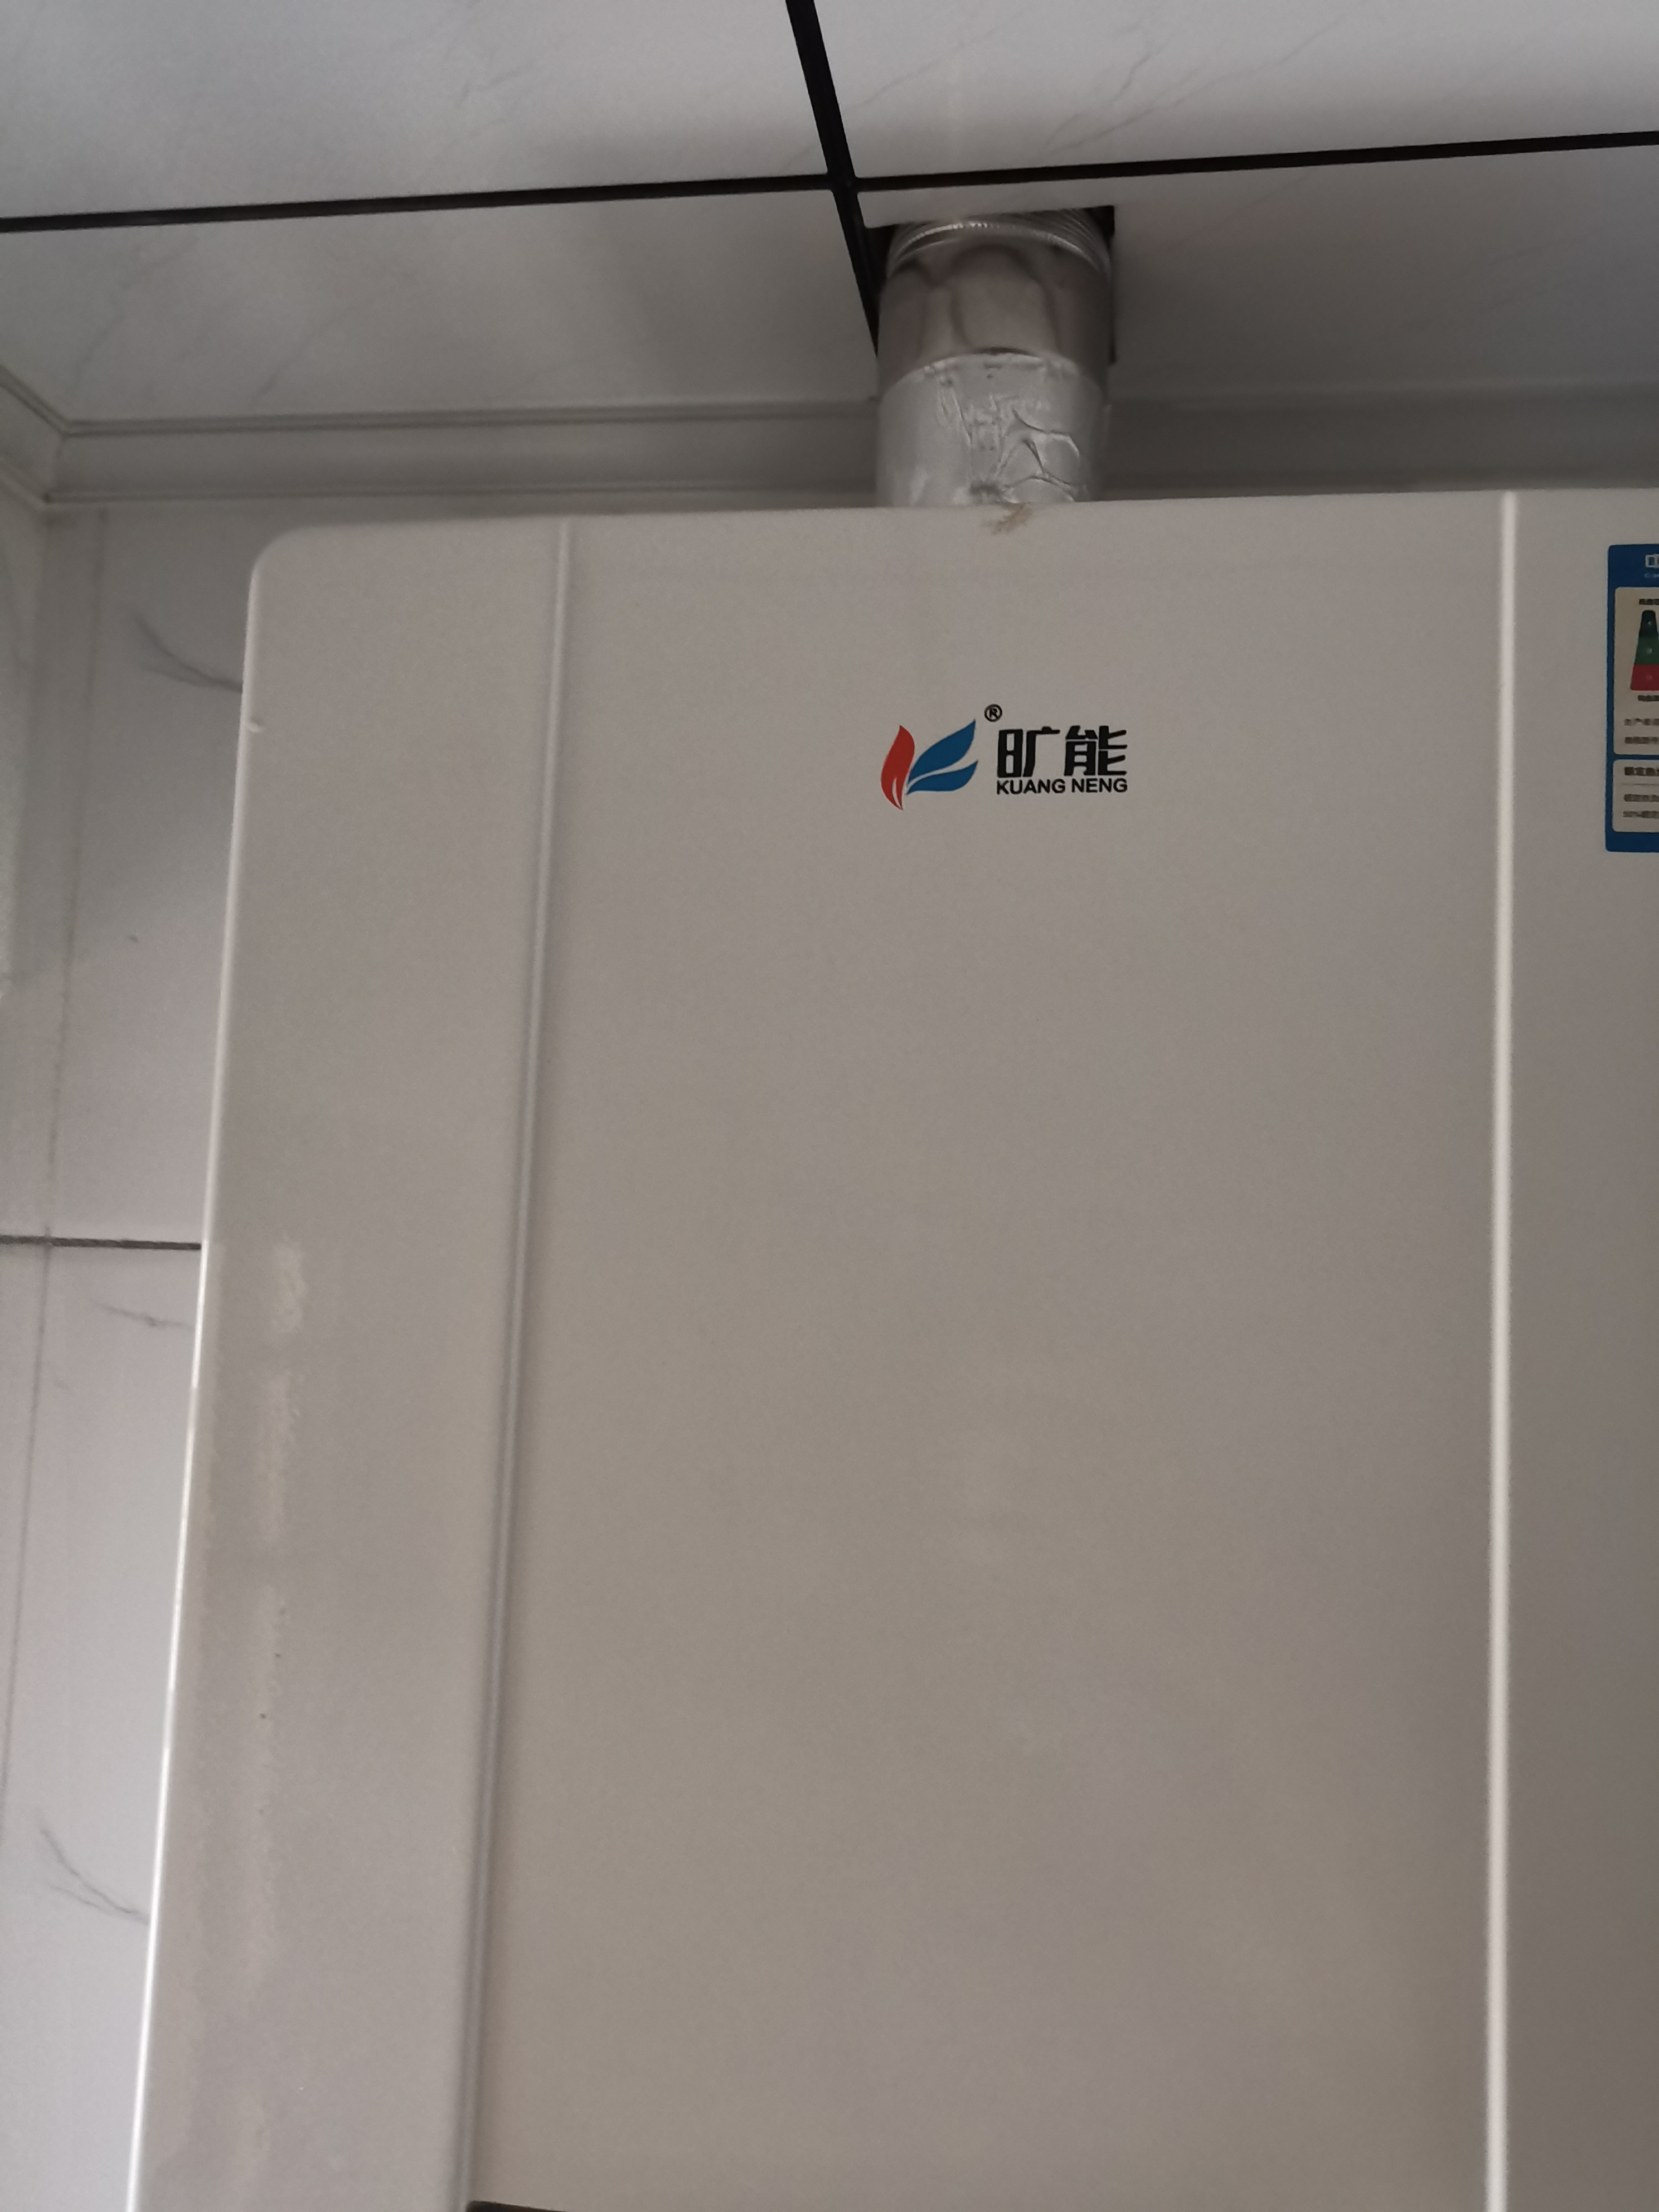loudou: (866, 686, 1159, 824)
